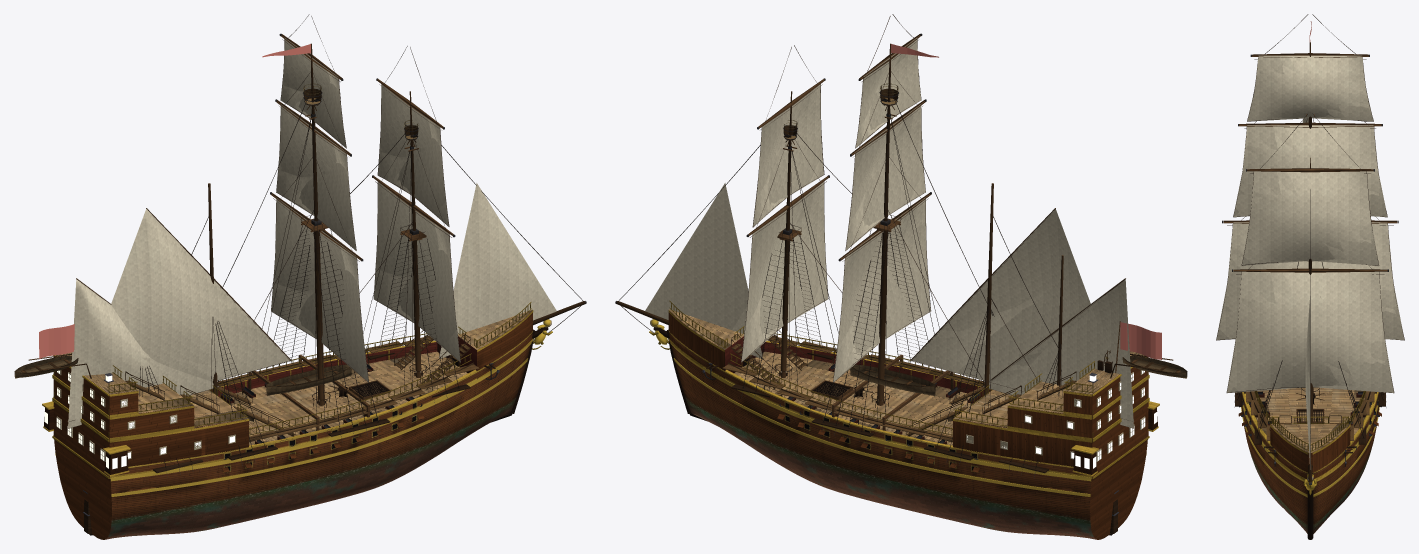
Rendered from galleon.glb.
3 renders of one model, left to right at view 1: azimuth 30°, elevation 25°; view 2: azimuth 150°, elevation 25°; view 3: azimuth 270°, elevation 25°, orthographic. The views are drawn at different scales.
Parts seen in each view (by area): view 1: LOD0_Wood, LOD0_Body, LOD2_m1_SquareSail, LOD0_m2_AftSail, LOD2_m0_SquareSail, LOD2_Body, LOD0_Jib, LOD0_m3_AftSail, LOD1_Wood, LOD2_Wood, LOD1_m2_AftSail, LOD0_m1_SquareSail (+12 smaller); view 2: LOD0_Wood, LOD0_Body, LOD2_m1_SquareSail, LOD2_m2_AftSail, LOD2_m0_SquareSail, LOD2_Body, LOD2_Jib, LOD1_Wood, LOD2_Wood, LOD2_m3_AftSail, LOD0_m2_AftSail, LOD0_m1_SquareSail (+11 smaller); view 3: LOD0_m0_SquareSail, LOD0_m1_SquareSail, LOD0_Body, LOD0_Wood, LOD2_Body, LOD2_m0_SquareSail, LOD1_m0_SquareSail, LOD1_m1_SquareSail, LOD2_m1_SquareSail, LOD2_m0_SquareYards, LOD2_m1_SquareYards, LOD0_m1_SquareYards (+7 smaller).
Boxes of the visible parts, x1,y1,x2,y2 form: LOD0_Wood: [14, 43, 586, 539]; LOD0_Body: [53, 89, 552, 539]; LOD2_m1_SquareSail: [272, 38, 368, 382]; LOD0_m2_AftSail: [68, 209, 280, 421]; LOD2_m0_SquareSail: [374, 85, 459, 359]; LOD2_Body: [108, 309, 532, 537]; LOD0_Jib: [439, 183, 547, 358]; LOD0_m3_AftSail: [68, 279, 188, 428]; LOD1_Wood: [55, 88, 565, 539]; LOD2_Wood: [60, 112, 535, 537]; LOD1_m2_AftSail: [68, 214, 289, 421]; LOD0_m1_SquareSail: [271, 49, 367, 381]; LOD0_Wood: [615, 43, 1187, 539]; LOD0_Body: [649, 91, 1148, 539]; LOD2_m1_SquareSail: [834, 41, 930, 375]; LOD2_m2_AftSail: [943, 209, 1130, 418]; LOD2_m0_SquareSail: [742, 95, 826, 354]; LOD2_Body: [669, 309, 1093, 537]; LOD2_Jib: [645, 183, 760, 356]; LOD1_Wood: [617, 89, 1146, 539]; LOD2_Wood: [642, 143, 1141, 537]; LOD2_m3_AftSail: [1013, 279, 1132, 401]; LOD0_m2_AftSail: [911, 239, 1133, 421]; LOD0_m1_SquareSail: [833, 38, 929, 381]; LOD0_m0_SquareSail: [1227, 171, 1385, 392]; LOD0_m1_SquareSail: [1216, 55, 1395, 339]; LOD0_Body: [1234, 389, 1386, 533]; LOD0_Wood: [1235, 42, 1385, 539]; LOD2_Body: [1249, 387, 1371, 533]; LOD2_m0_SquareSail: [1227, 171, 1393, 393]; LOD1_m0_SquareSail: [1232, 171, 1386, 389]; LOD1_m1_SquareSail: [1217, 55, 1396, 338]; LOD2_m1_SquareSail: [1217, 55, 1404, 339]; LOD2_m0_SquareYards: [1233, 169, 1387, 272]; LOD2_m1_SquareYards: [1223, 54, 1397, 223]; LOD0_m1_SquareYards: [1216, 14, 1404, 340].
Size of the model in its own units: 62.36 by 50.04 by 18.59.
Materials: 5 (3 with a texture image).
